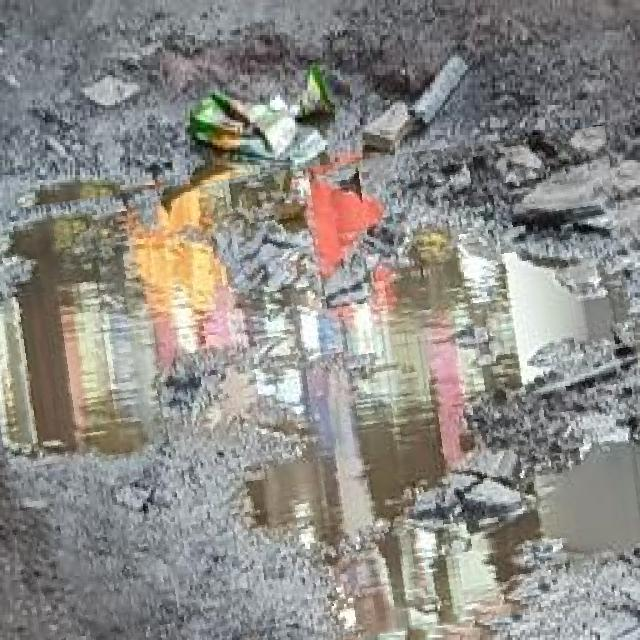puddle: (1, 147, 640, 640)
